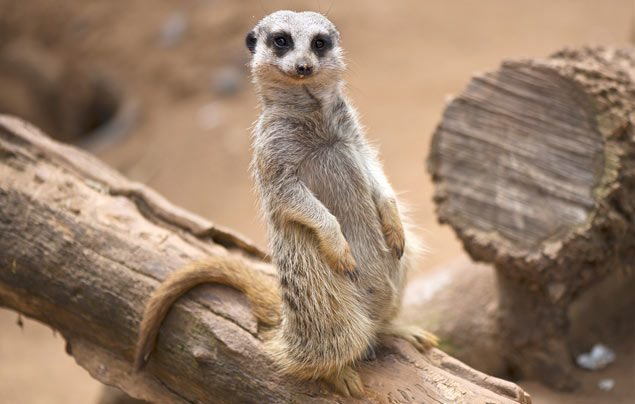meerkat: (221, 1, 468, 392)
